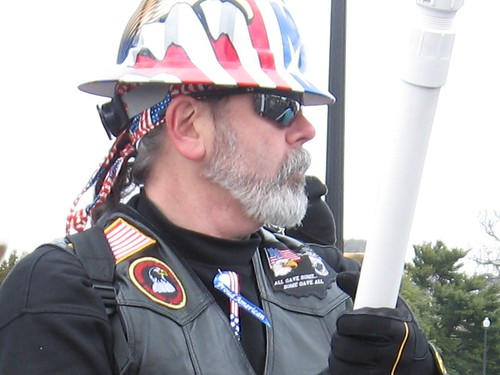person hardhat: (32, 1, 402, 375)
